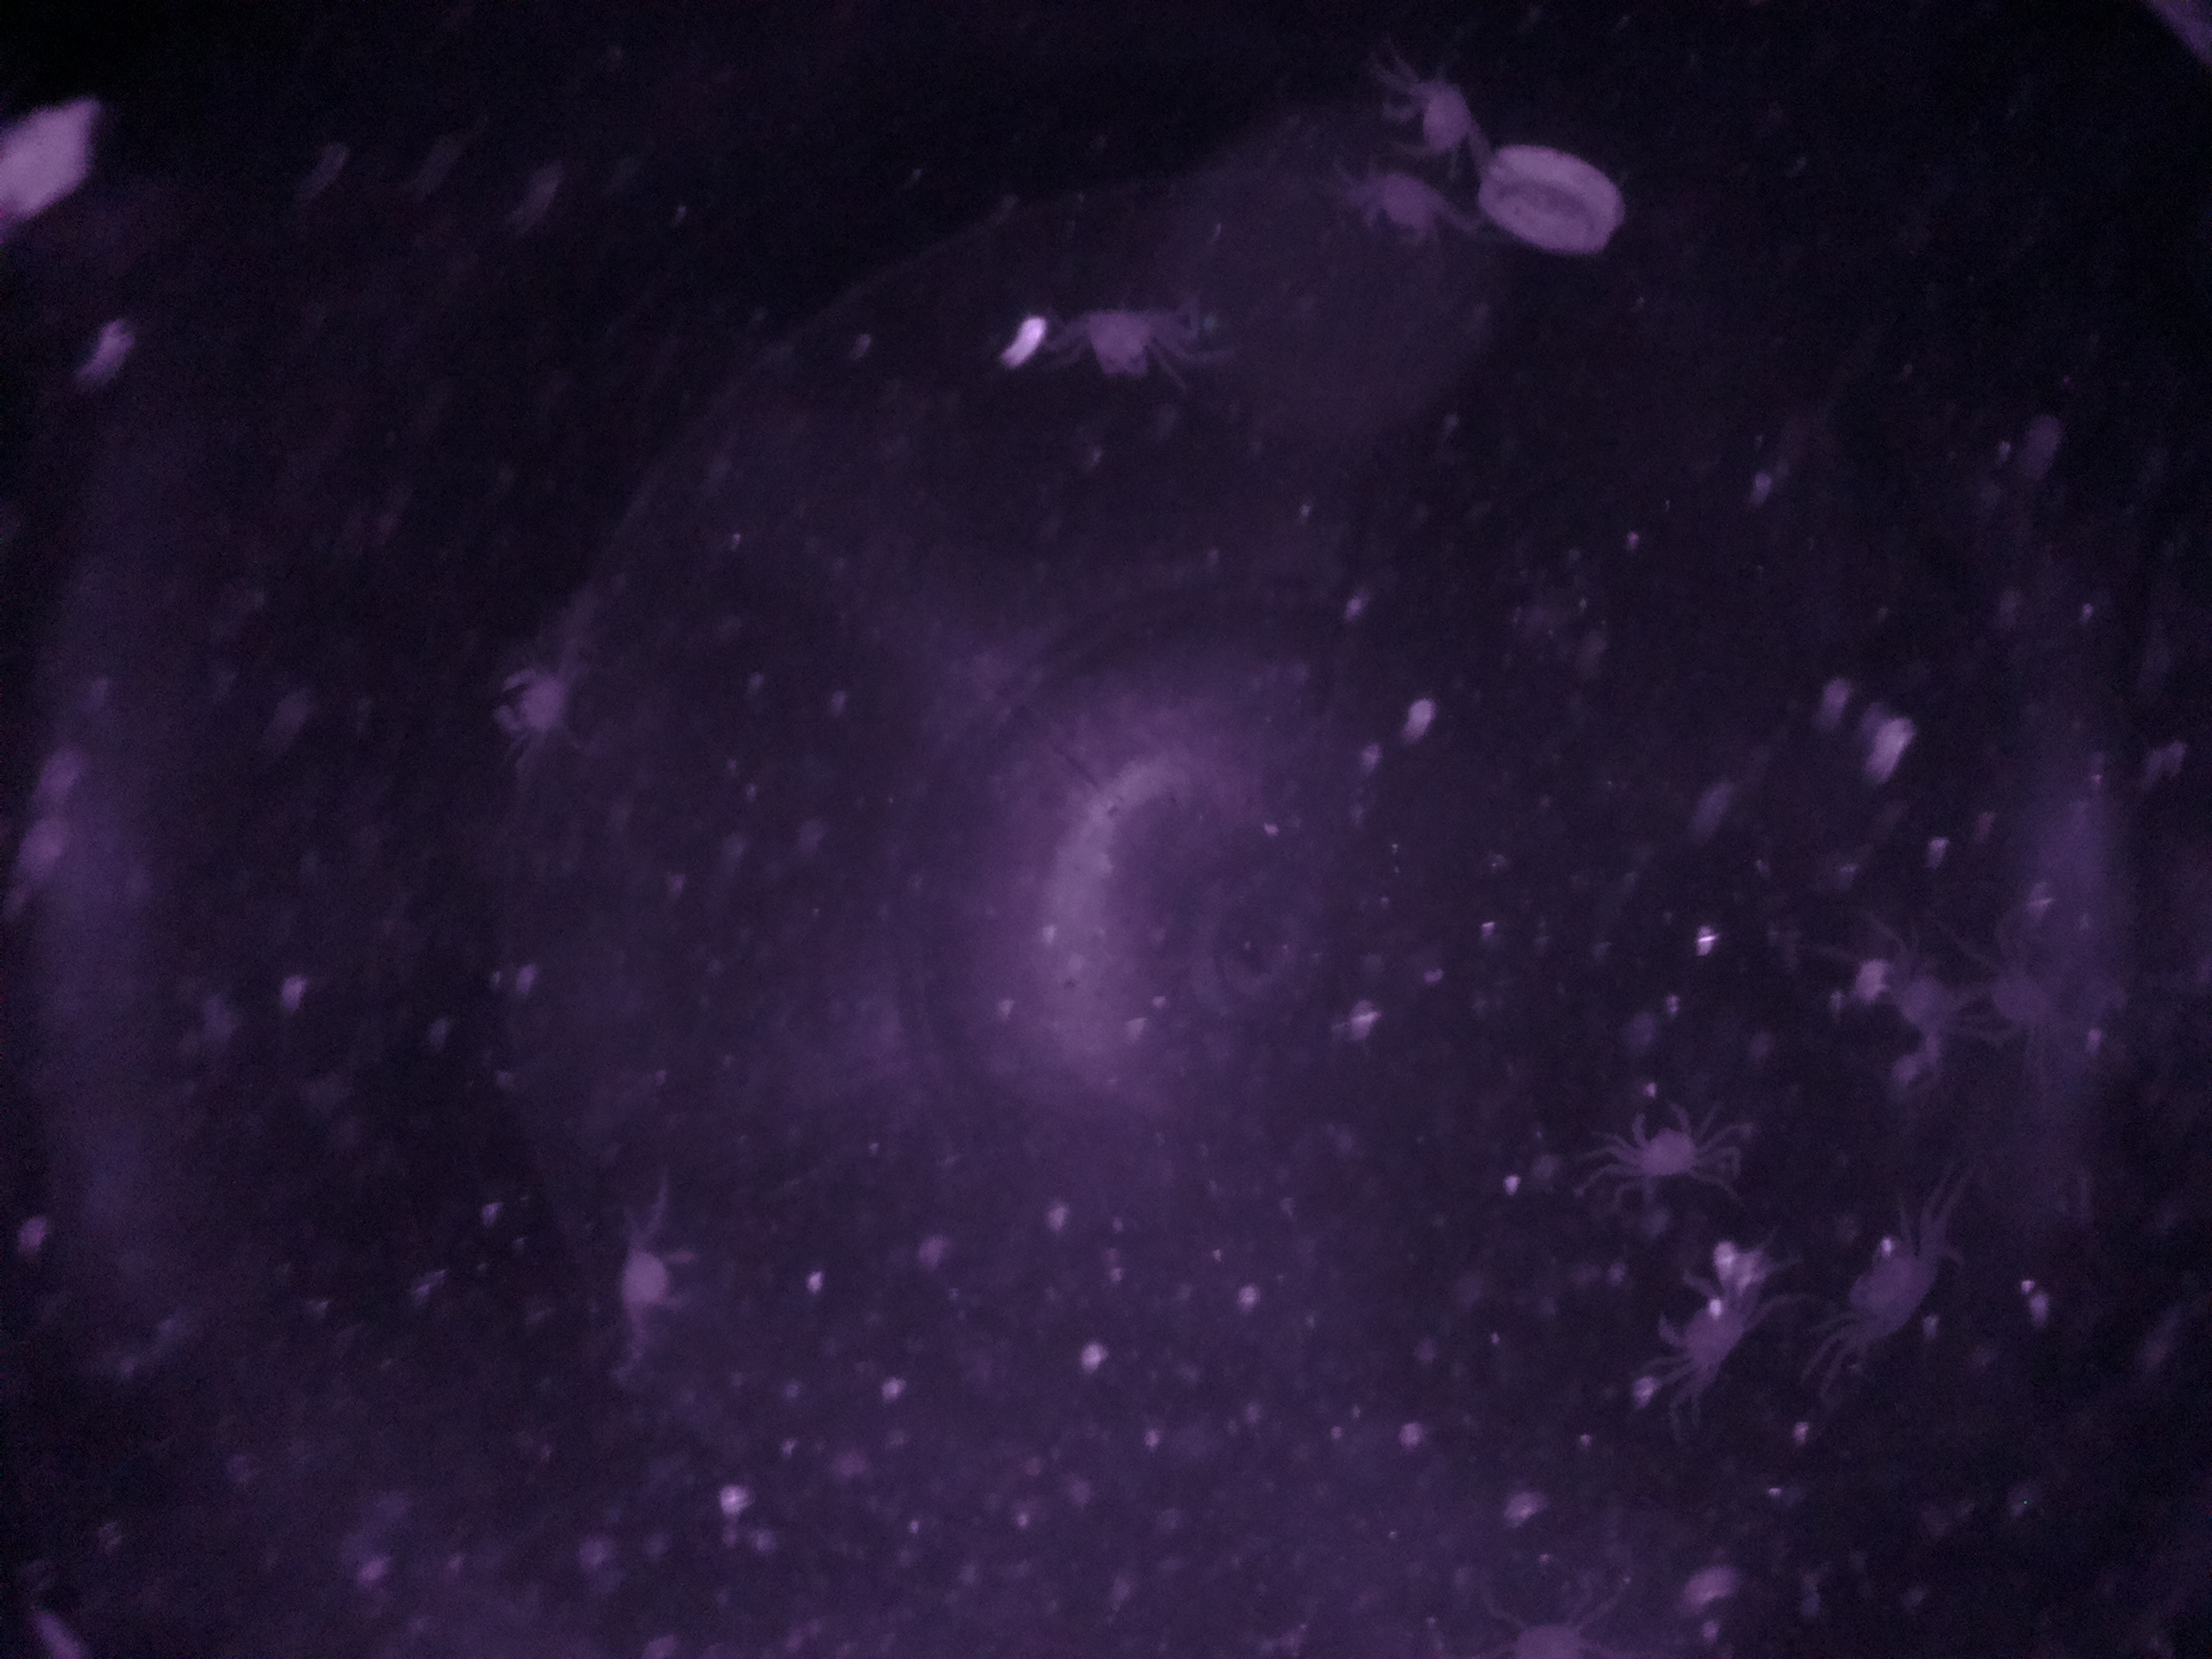Crab: (1629, 1255, 1766, 1410), (1602, 1082, 1726, 1218)
